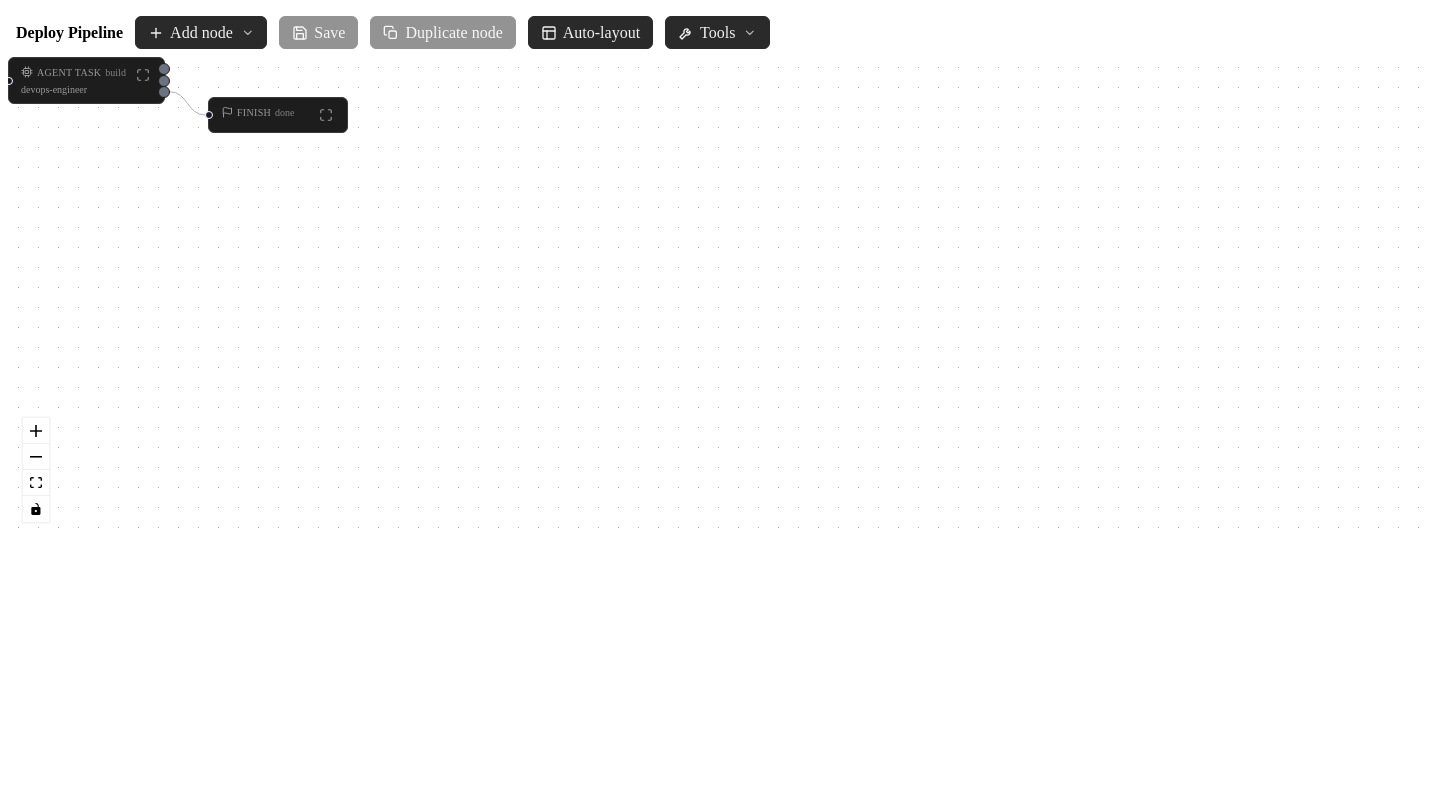
Test: FlowEditor › pops a toast with the human-readable reason when a save fails validation
Note: Auto-layout dirties the graph (no node modal in the way), enabling Save.
Click the button "Auto-layout" at (590, 33), box [528,16,653,49]
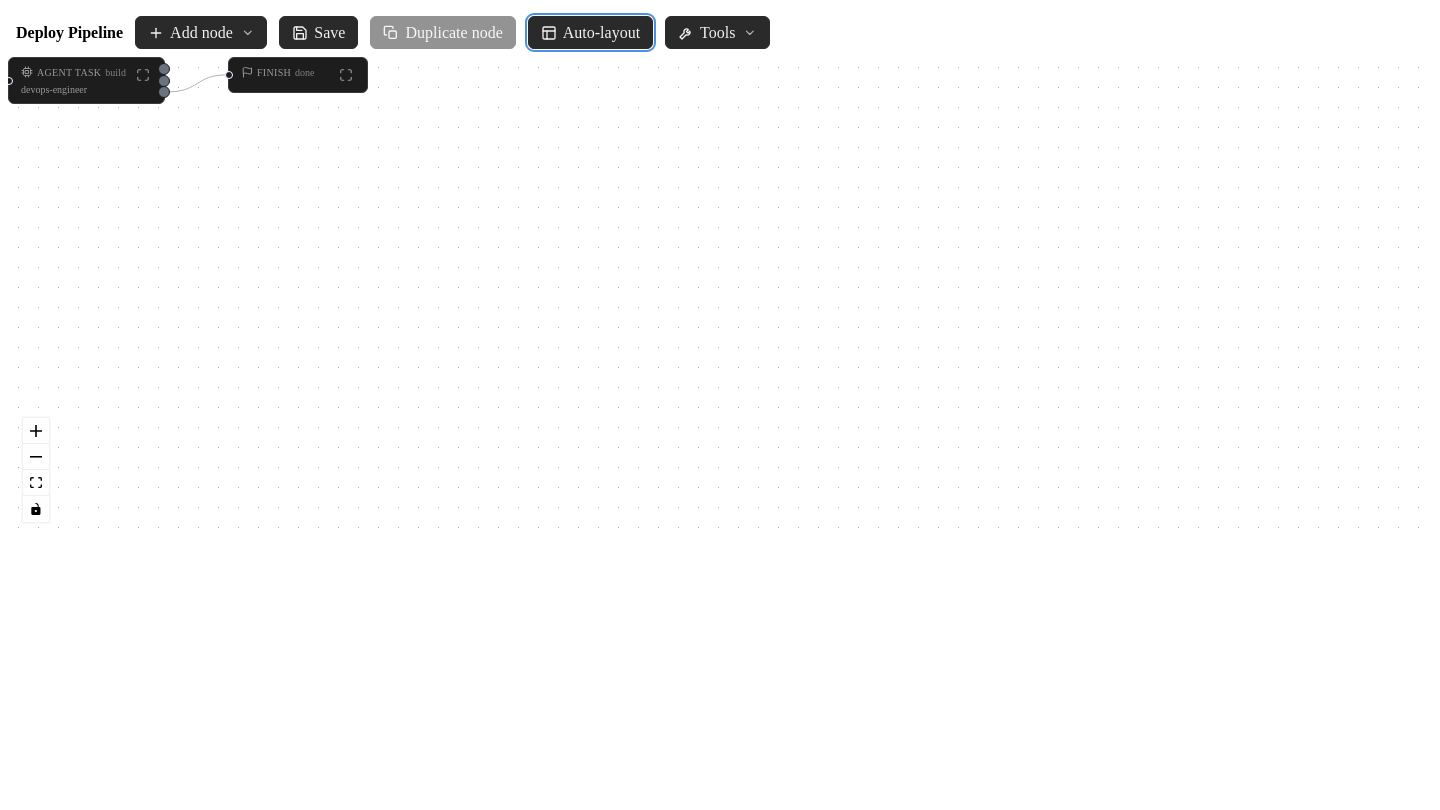
Click the button "Save" at (319, 33), box [279,16,358,49]
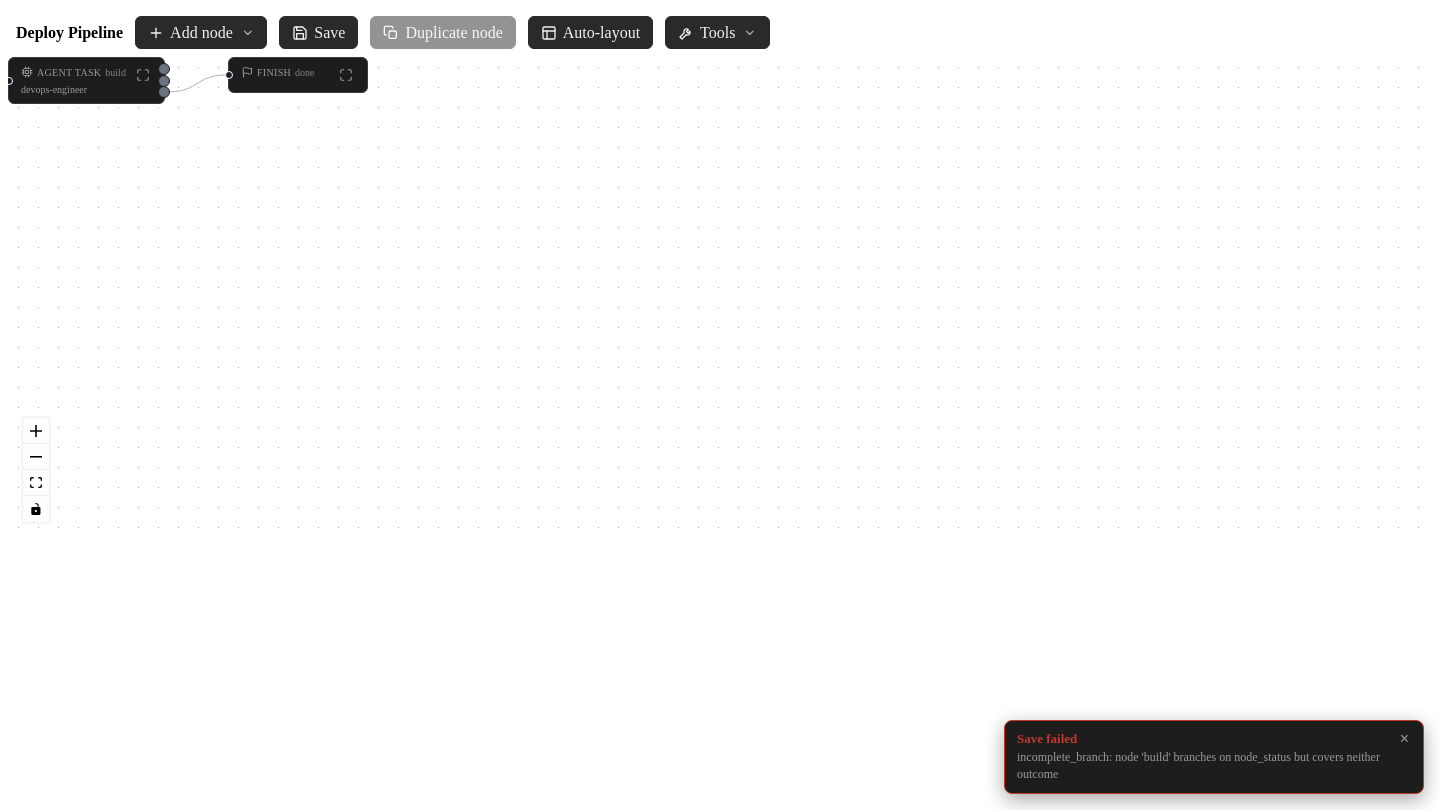
Expected: the dialog with test id "save-error-toast" shows "incomplete_branch", [1017,750,1380,781]
Expected: the dialog with test id "save-error-toast" shows "node 'build' branches on node_status", [1017,750,1380,781]
Expected: the dialog with test id "save-error-toast" is shown, [1004,720,1424,794]
